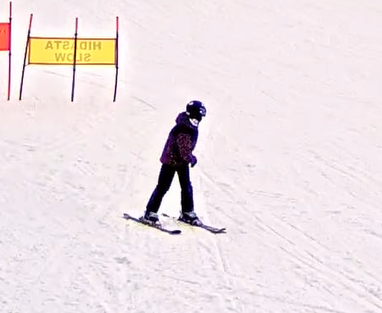skier: (122, 99, 227, 235)
